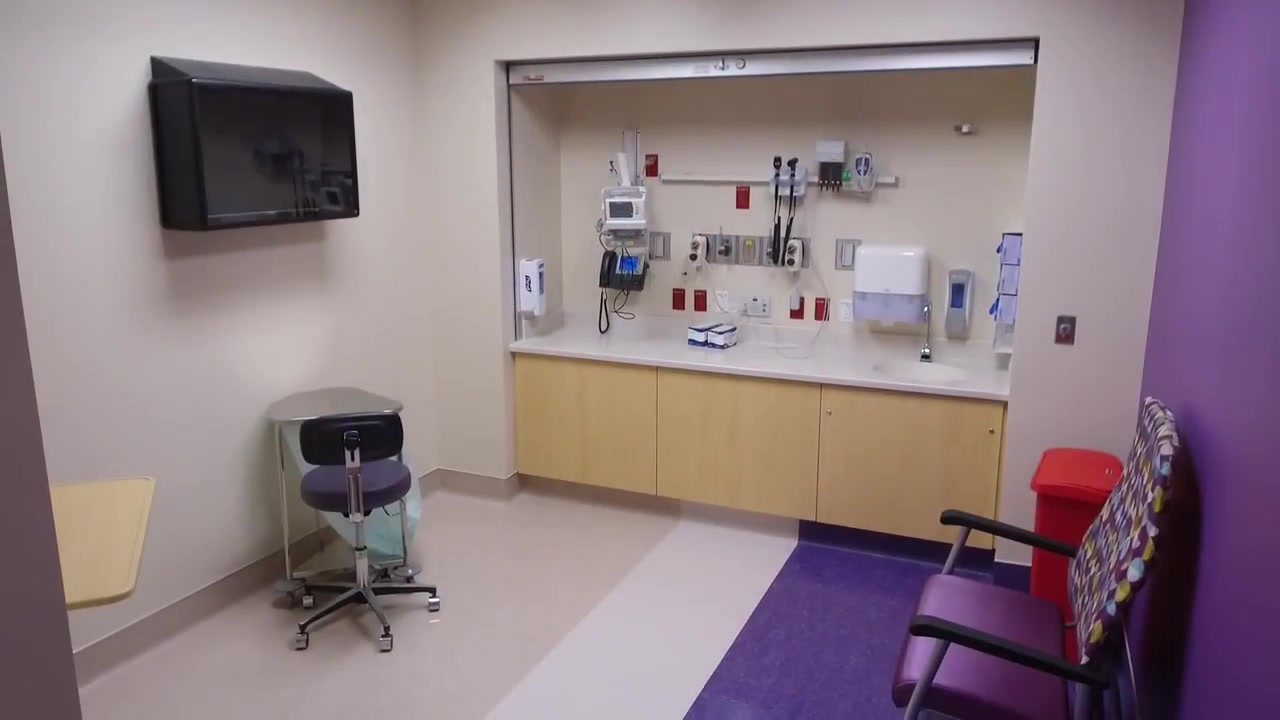chair: (888, 395, 1181, 720), (294, 411, 441, 652)
counter: (513, 323, 1007, 571)
countertop: (512, 323, 1009, 396)
dispenser: (853, 244, 927, 326), (996, 232, 1023, 327), (944, 268, 974, 342), (519, 257, 550, 322)
faucet: (919, 298, 937, 364)
sink: (867, 362, 968, 391)
telephone: (599, 250, 648, 291)
waste_bin: (265, 385, 422, 609), (1029, 447, 1130, 629)
